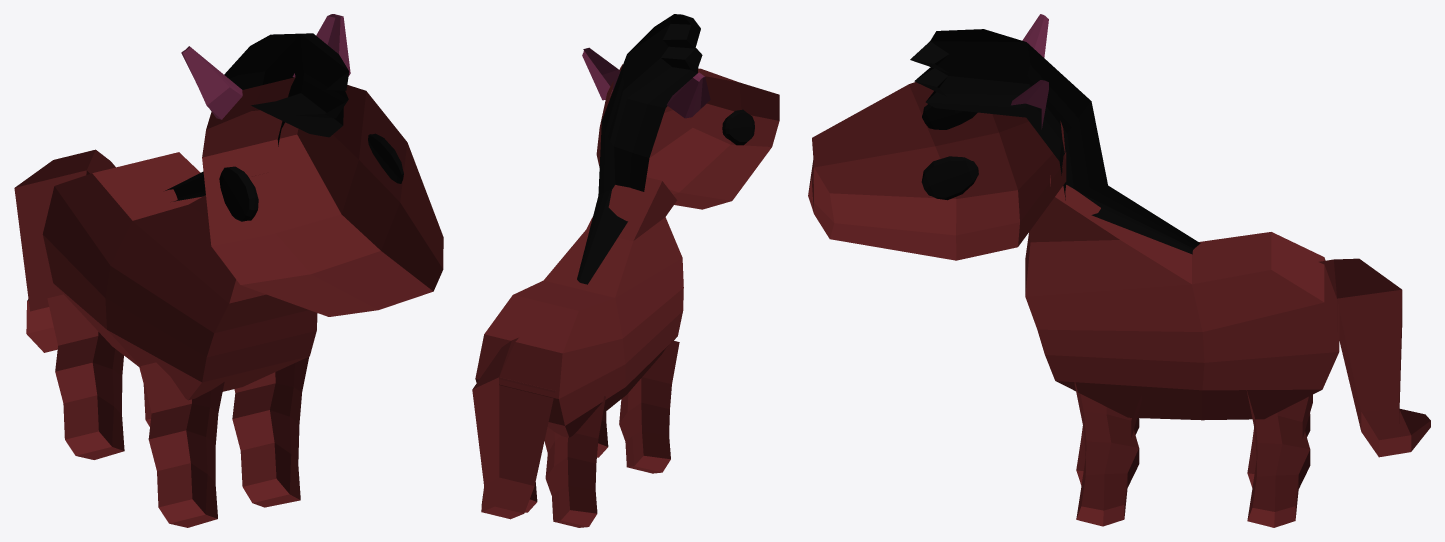
Rendered from newHorsiee.glb.
3 renders of one model, left to right at view 1: azimuth 30°, elevation 25°; view 2: azimuth 150°, elevation 25°; view 3: azimuth 270°, elevation 25°, orthographic. The views are drawn at different scales.
Parts seen in each view (by area): view 1: Cube.006; view 2: Cube.006; view 3: Cube.006.
Part boxes in pixels (x1=…): Cube.006: x1=14, y1=14, x2=443, y2=527; Cube.006: x1=472, y1=14, x2=779, y2=527; Cube.006: x1=808, y1=14, x2=1430, y2=527.
Bounding box in the file's own units: 0.6849 × 2.04 × 2.44.
